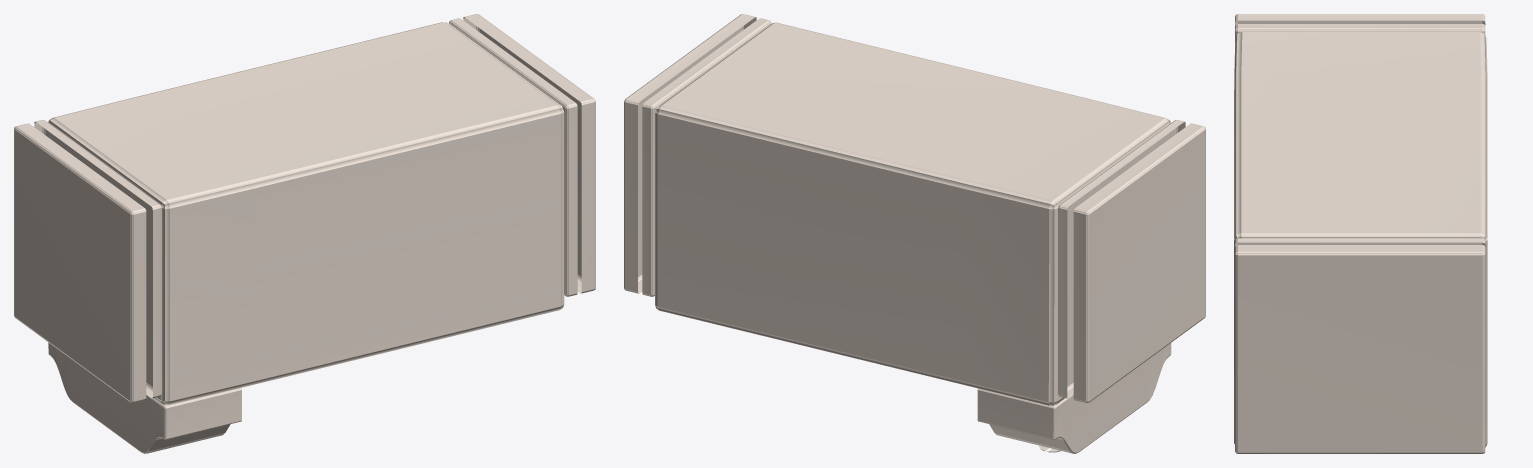
The model's file is BodymeshMicrowaveB1_0_GeomSubset_0.obj.
3 renders of one model, left to right at view 1: azimuth 30°, elevation 25°; view 2: azimuth 150°, elevation 25°; view 3: azimuth 270°, elevation 25°, orthographic. The views are drawn at different scales.
Visible parts, largest first — view 1: BodymeshMicrowaveB1_0_GeomSubset_0; view 2: BodymeshMicrowaveB1_0_GeomSubset_0; view 3: BodymeshMicrowaveB1_0_GeomSubset_0.
Boxes of the visible parts, <box> form: BodymeshMicrowaveB1_0_GeomSubset_0: <box>14,14,595,453</box>; BodymeshMicrowaveB1_0_GeomSubset_0: <box>624,14,1205,453</box>; BodymeshMicrowaveB1_0_GeomSubset_0: <box>1234,14,1487,453</box>.
Bounding box in the file's own units: 0.6997 × 0.4049 × 0.3512.
